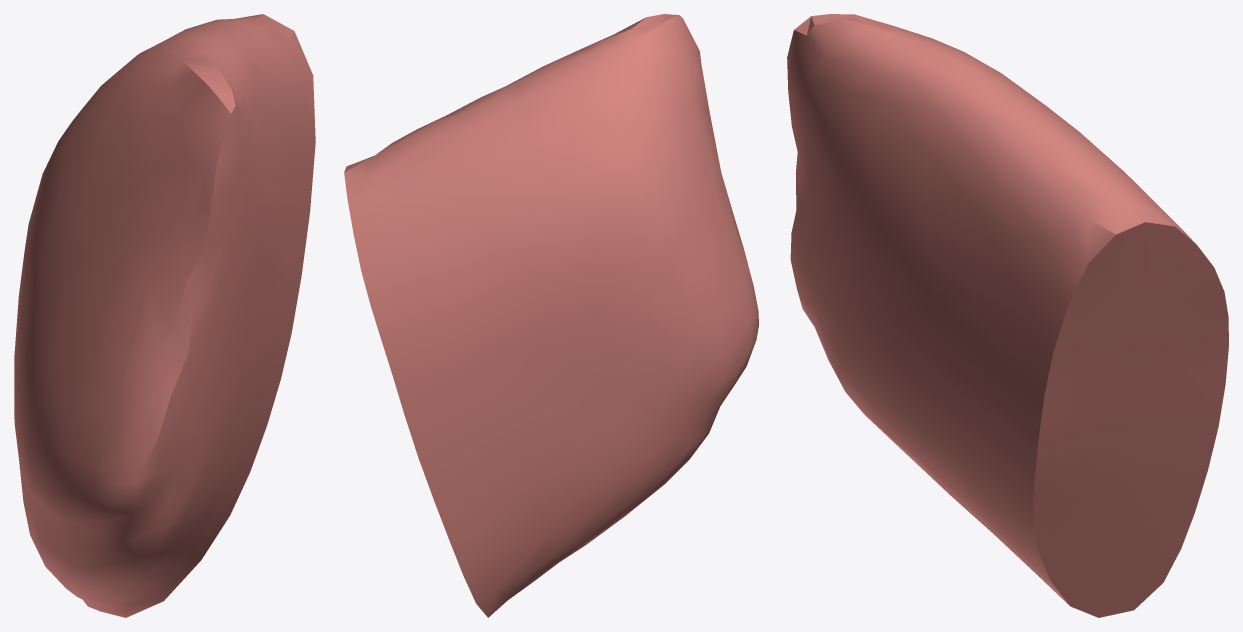
Rendered from fma299131_mm3998m.glb.
3 renders of one model, left to right at view 1: azimuth 30°, elevation 25°; view 2: azimuth 150°, elevation 25°; view 3: azimuth 270°, elevation 25°, orthographic. The views are drawn at different scales.
Visible parts, largest first — view 1: FMA299131_MM3998M; view 2: FMA299131_MM3998M; view 3: FMA299131_MM3998M.
Part boxes in pixels (x1,y1,x2,y2): FMA299131_MM3998M: [14, 14, 315, 617]; FMA299131_MM3998M: [344, 14, 758, 617]; FMA299131_MM3998M: [787, 14, 1228, 617].
Size of the model in its own units: 0.0147 by 0.0248 by 0.0173.
